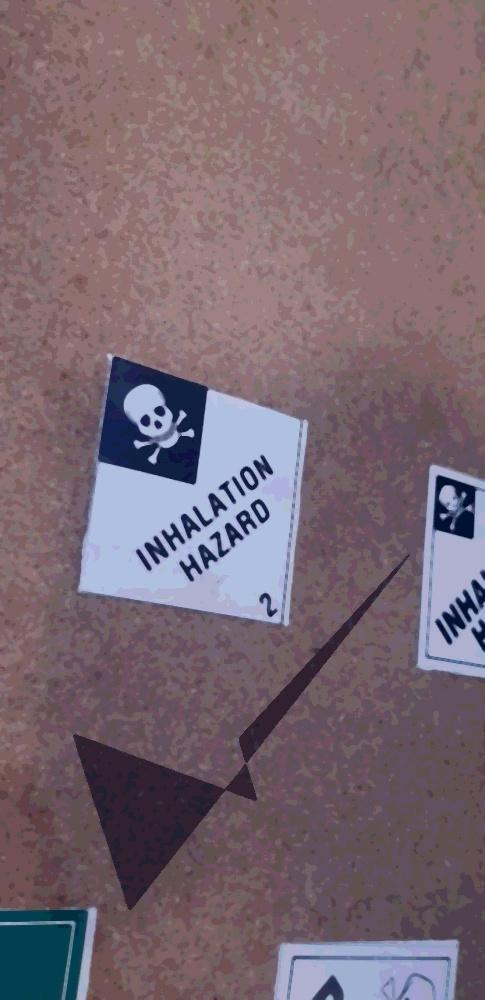poison: (77, 352, 307, 628)
